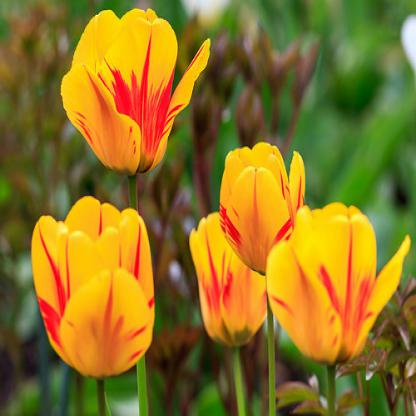TULIP: (34, 13, 404, 379)
